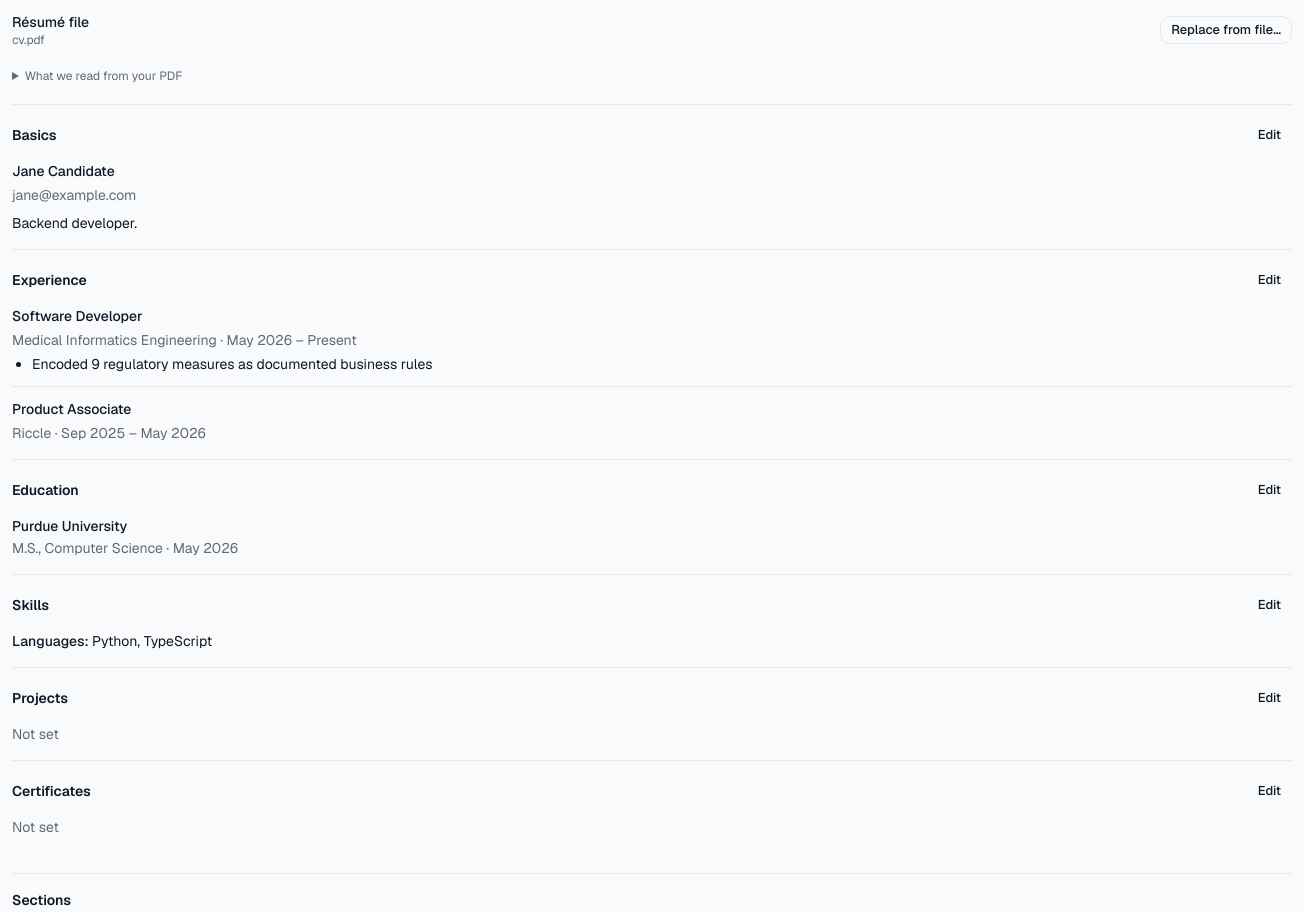
ResumePanel (#350) › shows what was read from the PDF
This screenshot has width=1304, height=912.
Click the heading "What we read from your PDF" at (104, 76), box [25,68,182,84]
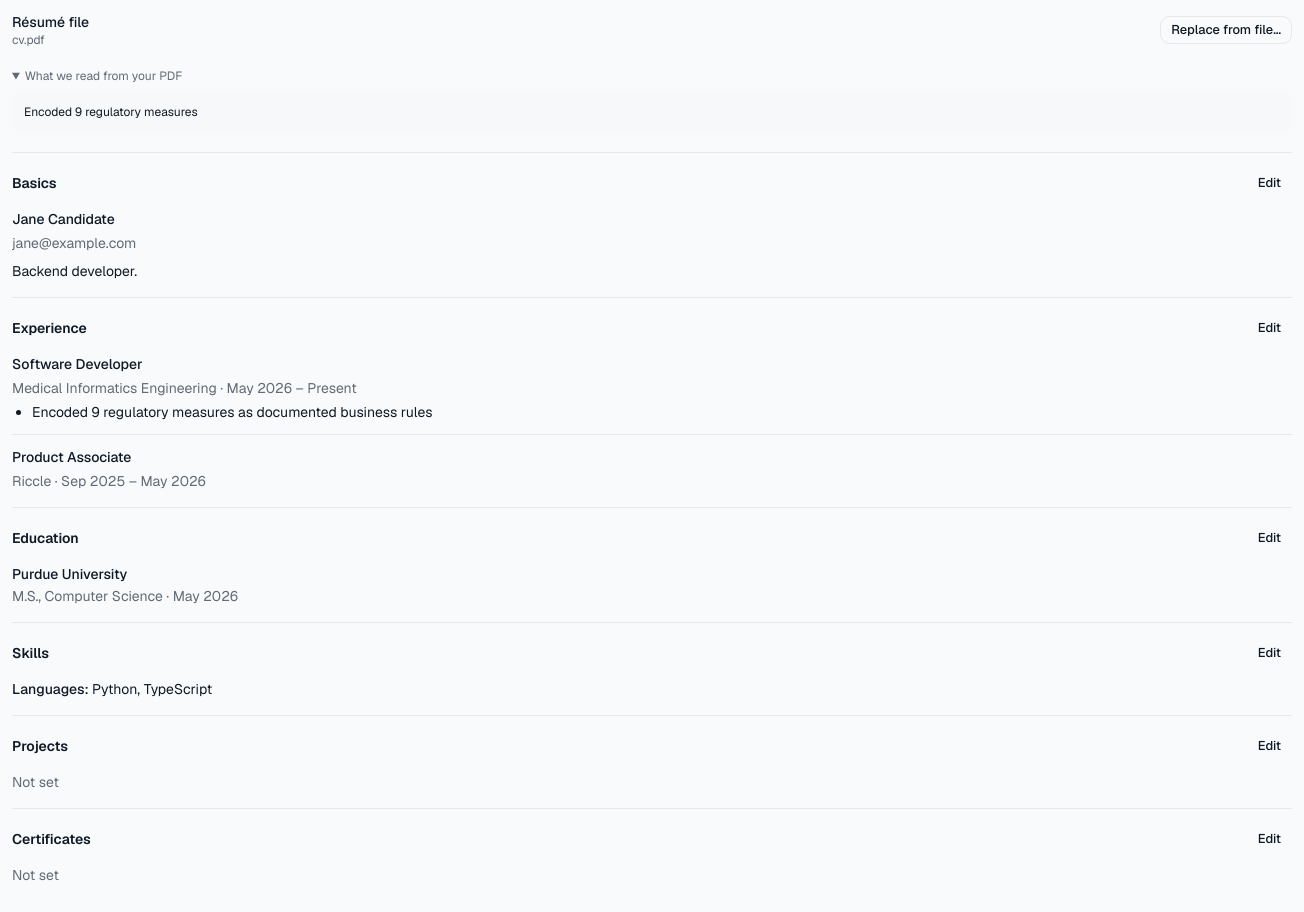
Check: the text "Encoded 9 regulatory measures" is shown, box [12,92,1292,132]
